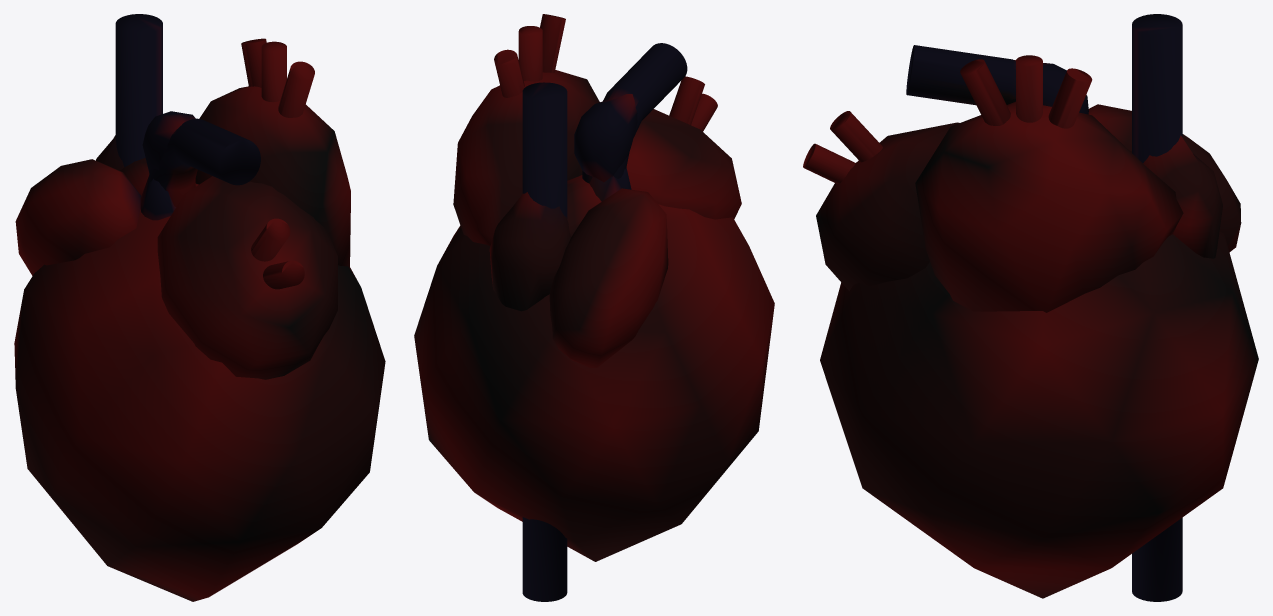
File: heart.fbx
3 renders of one model, left to right at view 1: azimuth 30°, elevation 25°; view 2: azimuth 150°, elevation 25°; view 3: azimuth 270°, elevation 25°, orthographic. The views are drawn at different scales.
Parts seen in each view (by area): view 1: Icosphere.007; view 2: Icosphere.007; view 3: Icosphere.007.
Boxes of the visible parts, x1,y1,x2,y2 form: Icosphere.007: (14,14,385,601); Icosphere.007: (414,14,774,601); Icosphere.007: (803,14,1258,601).
Bounding box in the file's own units: 169 × 285 × 204.
